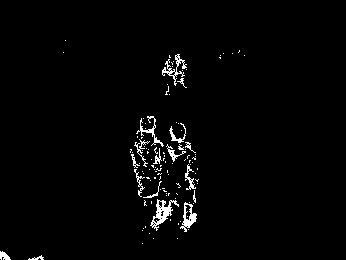person: (156, 123, 200, 235), (132, 110, 165, 218), (173, 49, 189, 92), (163, 51, 174, 99)
